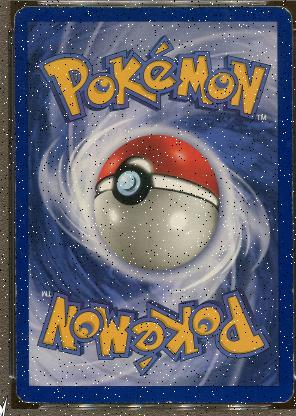Card: (11, 4, 293, 406)
Corner Wear: (268, 382, 292, 404), (272, 5, 292, 28), (15, 388, 41, 404), (12, 5, 27, 27)
Edge Wear: (13, 47, 17, 329), (289, 78, 292, 300), (35, 5, 207, 8), (107, 401, 252, 403), (15, 332, 17, 387), (290, 348, 292, 374), (27, 402, 60, 402)
Scratch: (212, 358, 269, 376), (26, 204, 34, 210)
